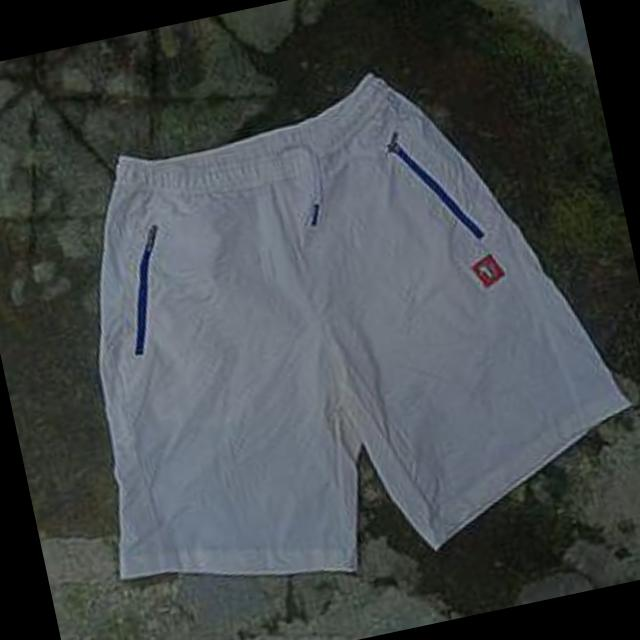SHORT: (7, 30, 640, 637)
